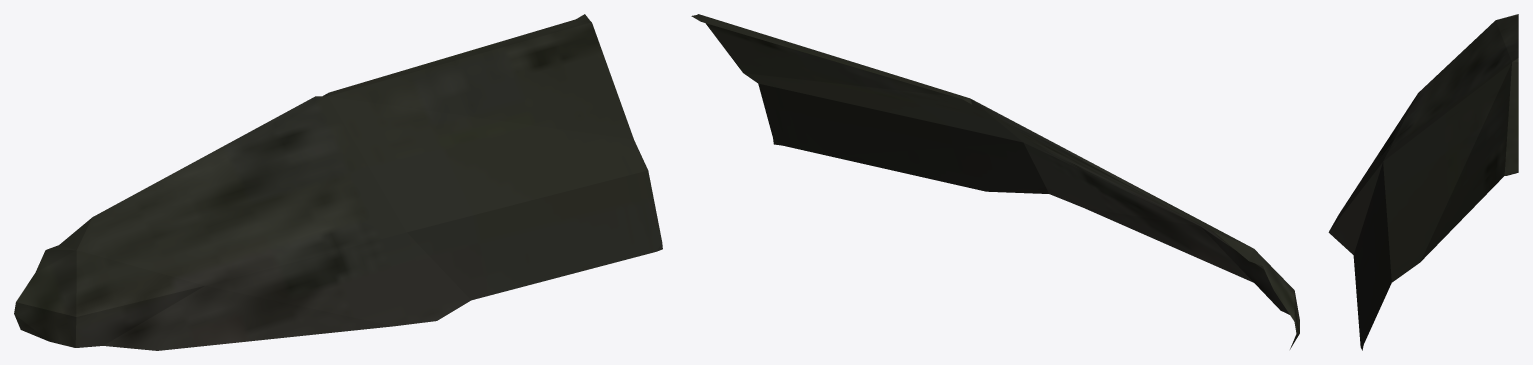
The picture shows the model from 3 angles, left to right: view 1: azimuth 30°, elevation 25°; view 2: azimuth 150°, elevation 25°; view 3: azimuth 270°, elevation 25°; orthographic projection. The views are drawn at different scales.
Size of the model in its own units: 1.11 by 0.3322 by 0.321.
Materials: 1 (1 with a texture image).
